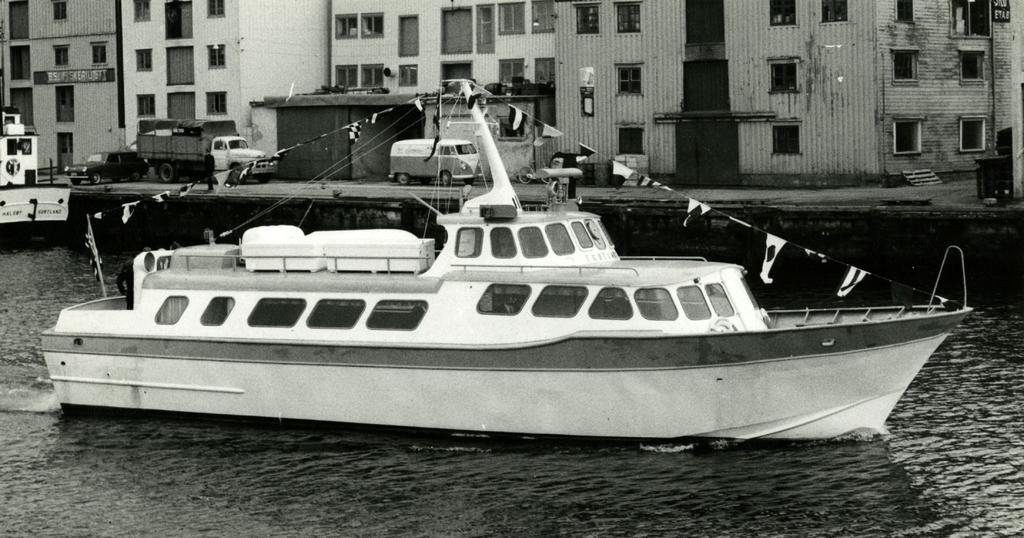PassengerShip: (18, 116, 1010, 448)
